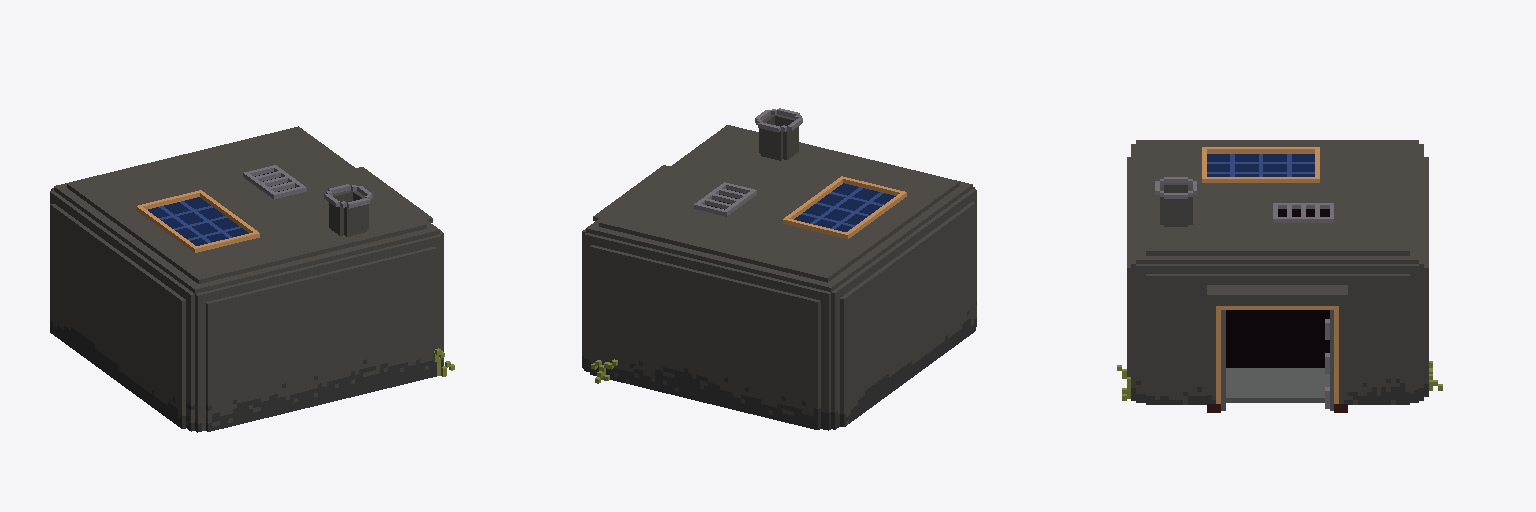
3 renders of one model, left to right at view 1: azimuth 30°, elevation 25°; view 2: azimuth 150°, elevation 25°; view 3: azimuth 270°, elevation 25°, orthographic.
Size of the model in its own units: 69 by 42 by 69.
1 materials, 1 textured.